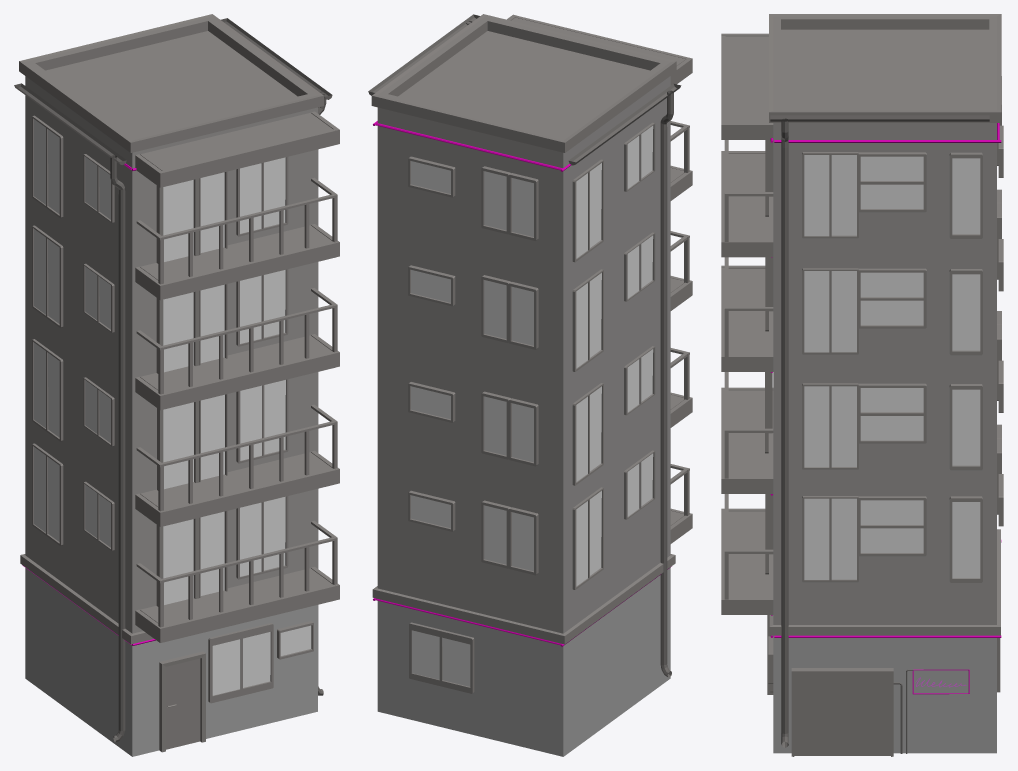
File: UpdatedTallBuilding_2.fbx
3 views of the same model, side by side, from view 1: azimuth 30°, elevation 25°; view 2: azimuth 150°, elevation 25°; view 3: azimuth 270°, elevation 25° (orthographic). The views are drawn at different scales.
Parts seen in each view (by area): view 1: UpdatedTallBuilding_02; view 2: UpdatedTallBuilding_02; view 3: UpdatedTallBuilding_02.
Part boxes in pixels (x1,y1,x2,y2): UpdatedTallBuilding_02: (14,14,339,756); UpdatedTallBuilding_02: (368,14,692,756); UpdatedTallBuilding_02: (721,14,1003,756).
Bounding box in the file's own units: 446 × 1244 × 495.
